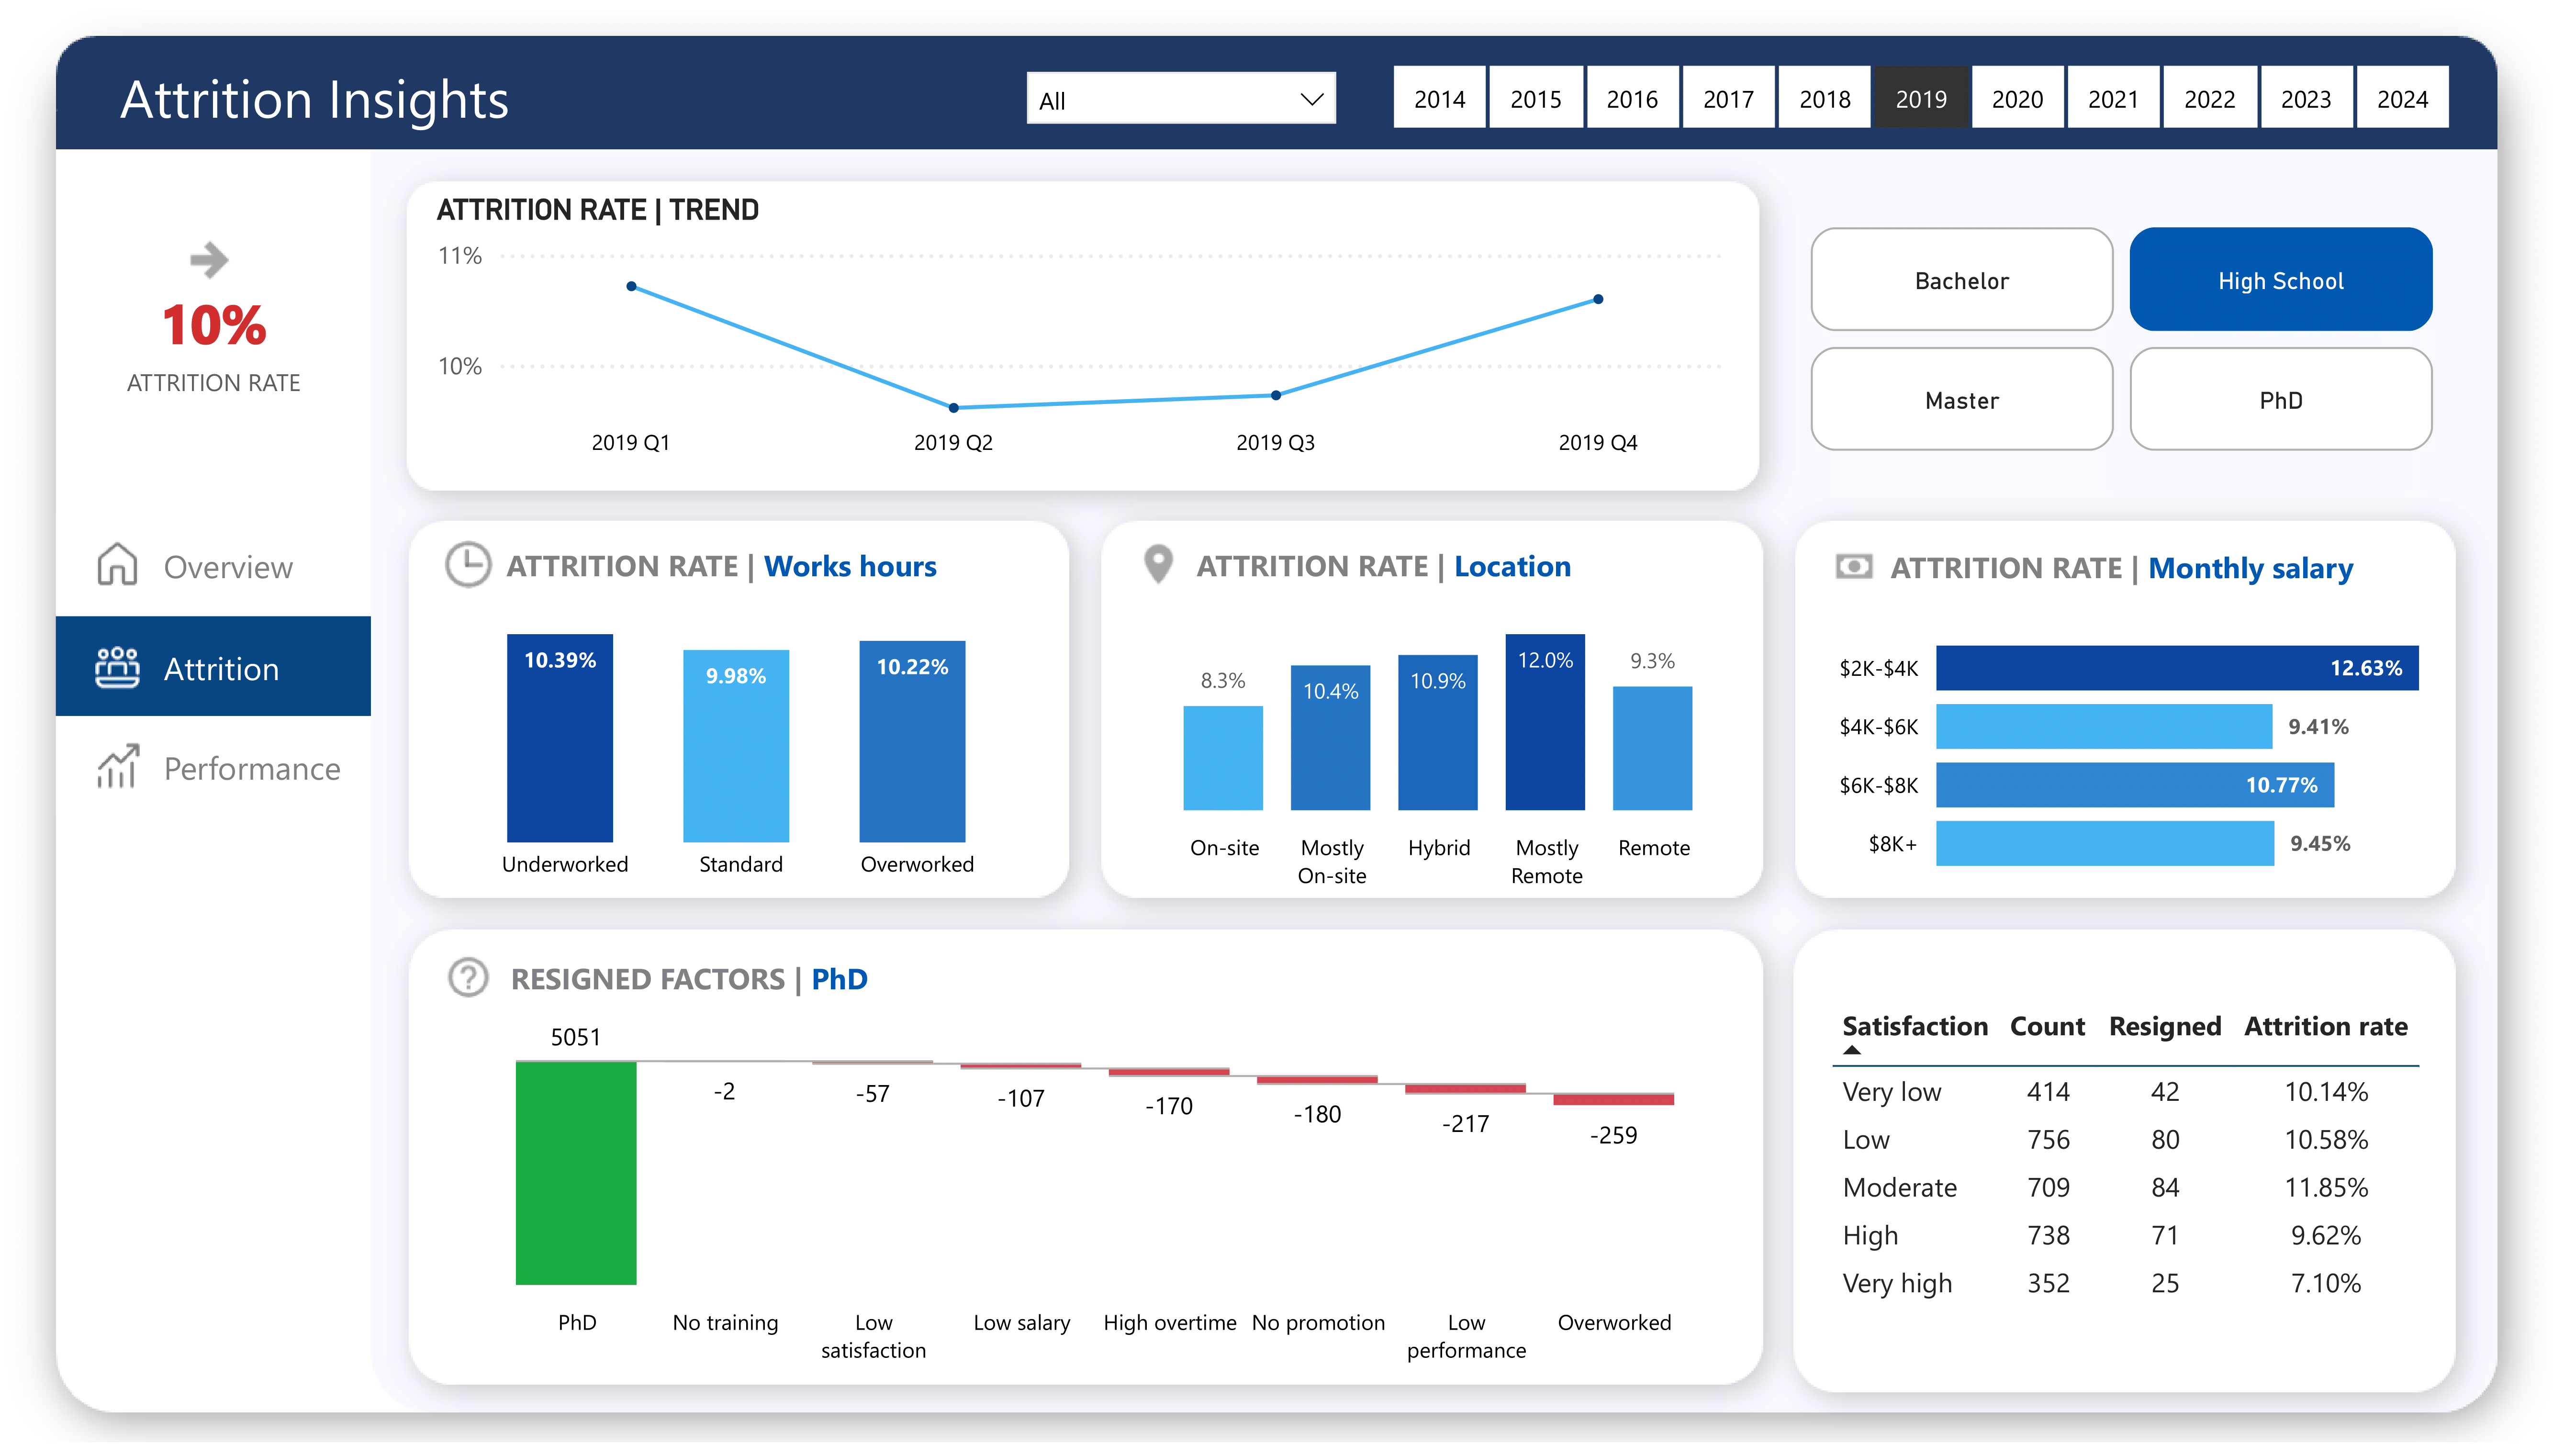

This screenshot's page, from the dashboard's own definition file:
{"tool":"powerbi","page":{"name":"Attrition dashboard","canvas":[1280,720],"ordinal":1},"visuals":[{"type":"textbox","box":[54.7,20,254,50],"z":0},{"type":"actionButton","title":"Button Performance","box":[27.6,354,158.1,50],"z":1000},{"type":"actionButton","title":"Button Attrition Active","box":[27.6,303.6,158.1,50],"z":4000},{"type":"actionButton","title":"Button Overview","box":[28.2,253.2,158.2,50],"z":5000},{"type":"actionButton","title":"Button Perform Score","box":[218.6,261.9,32,32],"z":5000,"group":"g3"},{"type":"actionButton","title":"Button Perform Score","box":[565.2,262.1,32,32],"z":5000,"group":"g4"},{"type":"actionButton","title":"Button Perform Score","box":[913.9,262.9,32,32],"z":5000,"group":"g5"},{"type":"actionButton","title":"Button Perform Score","box":[218.7,469.5,32,32],"z":5000,"group":"g1"},{"type":"actionButton","title":"Button Attrition Rate","box":[86.9,106.7,37,37.7],"z":6000,"group":"g2"},{"type":"lineChart","title":"ATTRITION RATE | TREND","fields":{"Y":["*Measures.AttritionRate"],"Category":["DateTable.YearQuarter"]},"box":[213.6,92.1,657.1,141.4],"z":7000},{"type":"card","title":"Card Attrition Rate","fields":{"Values":["*Measures.AttritionRate"]},"box":[36.4,120.5,142.3,89.7],"z":8000,"group":"g2"},{"type":"clusteredBarChart","title":"Attrition Rate | SALARY","fields":{"Category":["Employee.Salary_Bucket"],"Y":["*Measures.AttritionRate"]},"box":[912.9,294.3,305,152.9],"z":8000},{"type":"clusteredColumnChart","title":"Attrition Rate | WORK HOURS","fields":{"Category":["Employee.WorkHours_Category"],"Y":["*Measures.AttritionRate"]},"box":[213.6,299.3,315.7,146.4],"z":9000},{"type":"clusteredColumnChart","title":"Attrition Rate | REMOTE WORK","fields":{"Category":["Employee.Remote_Category"],"Y":["*Measures.AttritionRate"]},"box":[559.3,299.3,317.9,149.3],"z":10000},{"type":"tableEx","title":"Attrition Rate | PERFORMANCE SCORE","fields":{"Values":["Employee.Satisfaction_Bucket","*Measures.TotalEmployees","*Measures.TotalResigned","*Measures.AttritionRate"]},"box":[912.9,492.1,305,175],"z":11000},{"type":"waterfallChart","title":"Resigned factors | PhD","fields":{"Category":["Resignation_factors.Stage"],"Y":["Sum(Resignation_factors.Value)"]},"box":[213.6,492.1,661.4,194.3],"z":12000},{"type":"slicer","fields":{"Values":["Employee.Department"]},"box":[504.9,21,175,45],"z":13000},{"type":"slicer","fields":{"Values":["DateTable.Year"]},"box":[673.2,21,579.2,45],"z":14000},{"type":"advancedSlicerVisual","fields":{"Values":["Employee.Education_Level"]},"box":[902.9,103.6,322.9,122.9],"z":15000},{"type":"group","id":"g1","title":"Group 4","box":[218.7,469.5,246.4,32.1],"z":16000},{"type":"group","id":"g2","title":"Group 1","box":[36.4,106.7,142.3,103.5],"z":17000},{"type":"group","id":"g3","title":"Group 2","box":[218.6,261.9,267.4,32.2],"z":18000},{"type":"group","id":"g4","title":"Group 2","box":[565.2,262.1,267.1,32.1],"z":19000},{"type":"group","id":"g5","title":"Group 2","box":[913.9,262.9,283.7,32.2],"z":20000},{"type":"textbox","box":[248.2,262.7,237.9,31.4],"z":21006,"group":"g3"},{"type":"textbox","box":[594.8,262.9,237.9,31.4],"z":21006,"group":"g4"},{"type":"textbox","box":[943.3,263.7,254.3,31.4],"z":21006,"group":"g5"},{"type":"textbox","box":[250.8,470.2,214.3,31.4],"z":21006,"group":"g1"}]}

Visuals, with their boxes in screenshot pixels (x1, y1, x2, y2), scaled from the page's 1280x720 canvas onto the 2553x1456 screenshot:
textbox: select_region(109, 40, 616, 142)
"Button Performance" actionButton: select_region(55, 716, 370, 817)
"Button Attrition Active" actionButton: select_region(55, 614, 370, 715)
"Button Overview" actionButton: select_region(56, 512, 372, 613)
"Button Perform Score" actionButton: select_region(436, 530, 500, 594)
"Button Perform Score" actionButton: select_region(1127, 530, 1191, 595)
"Button Perform Score" actionButton: select_region(1823, 532, 1887, 596)
"Button Perform Score" actionButton: select_region(436, 950, 500, 1014)
"Button Attrition Rate" actionButton: select_region(173, 216, 247, 292)
"ATTRITION RATE | TREND" lineChart: select_region(426, 186, 1736, 472)
"Card Attrition Rate" card: select_region(73, 244, 357, 425)
"Attrition Rate | SALARY" clusteredBarChart: select_region(1821, 595, 2429, 904)
"Attrition Rate | WORK HOURS" clusteredColumnChart: select_region(426, 605, 1056, 901)
"Attrition Rate | REMOTE WORK" clusteredColumnChart: select_region(1116, 605, 1749, 907)
"Attrition Rate | PERFORMANCE SCORE" tableEx: select_region(1821, 995, 2429, 1349)
"Resigned factors | PhD" waterfallChart: select_region(426, 995, 1745, 1388)
slicer - Employee.Department: select_region(1007, 43, 1356, 134)
slicer - DateTable.Year: select_region(1343, 43, 2498, 134)
advancedSlicerVisual - Employee.Education_Level: select_region(1801, 210, 2445, 458)
"Group 4" group: select_region(436, 950, 928, 1014)
"Group 1" group: select_region(73, 216, 357, 425)
"Group 2" group: select_region(436, 530, 969, 595)
"Group 2" group: select_region(1127, 530, 1660, 595)
"Group 2" group: select_region(1823, 532, 2389, 597)
textbox: select_region(495, 531, 970, 595)
textbox: select_region(1187, 532, 1661, 595)
textbox: select_region(1881, 533, 2389, 597)
textbox: select_region(500, 951, 928, 1014)
